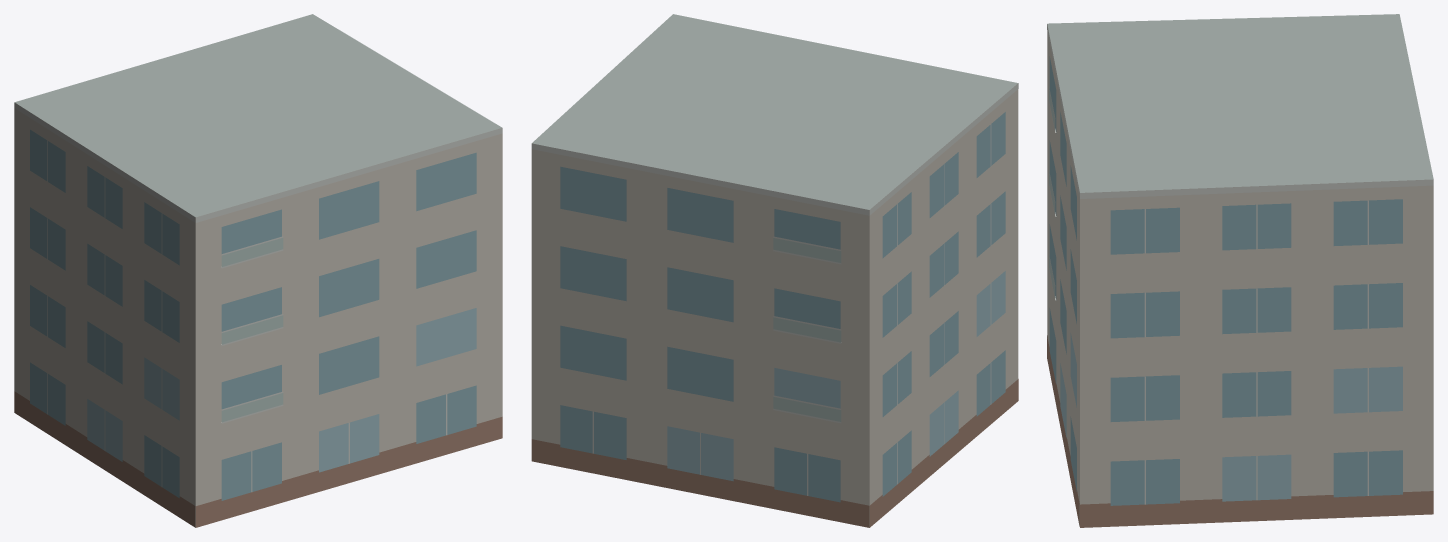
File: survey-upis-32633184.glb
3 renders of one model, left to right at view 1: azimuth 30°, elevation 25°; view 2: azimuth 150°, elevation 25°; view 3: azimuth 270°, elevation 25°, orthographic. The views are drawn at different scales.
Parts seen in each view (by area): view 1: survey-upis-32633184.tmp; view 2: survey-upis-32633184.tmp; view 3: survey-upis-32633184.tmp.
Boxes of the visible parts, left/top/right/bottom form: survey-upis-32633184.tmp: left=14, top=14, right=502, bottom=527; survey-upis-32633184.tmp: left=531, top=14, right=1018, bottom=527; survey-upis-32633184.tmp: left=1047, top=14, right=1433, bottom=527.
Bounding box in the file's own units: 15.37 × 13.4 × 14.03.
